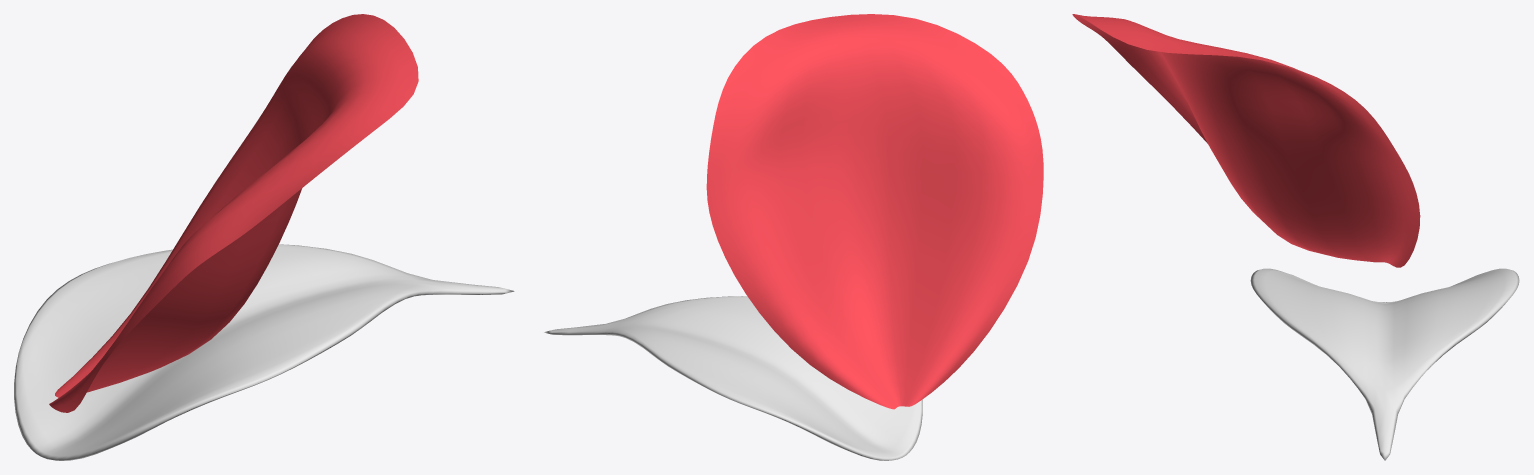
3 renders of one model, left to right at view 1: azimuth 30°, elevation 25°; view 2: azimuth 150°, elevation 25°; view 3: azimuth 270°, elevation 25°, orthographic. The views are drawn at different scales.
Visible parts, largest first — view 1: leaf, rose3_5.006; view 2: rose3_5.006, leaf; view 3: rose3_5.006, leaf.
Boxes of the visible parts, <box> form: leaf: <box>14,244,514,460</box>; rose3_5.006: <box>49,14,418,412</box>; rose3_5.006: <box>706,14,1043,409</box>; leaf: <box>544,296,922,460</box>; rose3_5.006: <box>1072,14,1420,267</box>; leaf: <box>1250,268,1519,460</box>.
Size of the model in its own units: 376 by 291 by 327.
